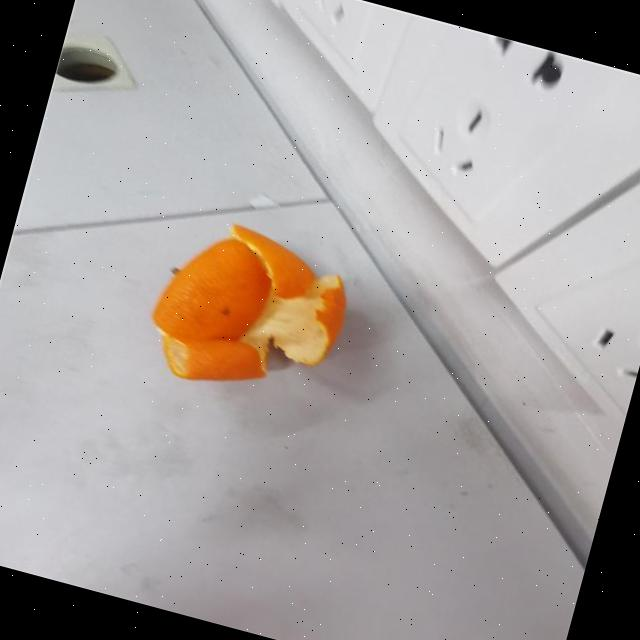orange-peel: (136, 206, 362, 415)
